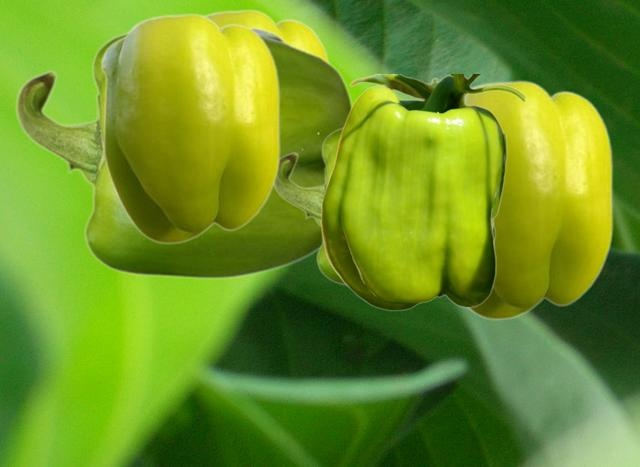bell_pepper: (15, 25, 352, 279), (320, 74, 525, 310), (100, 12, 279, 243), (274, 126, 495, 285), (466, 79, 612, 319), (204, 8, 330, 60)
